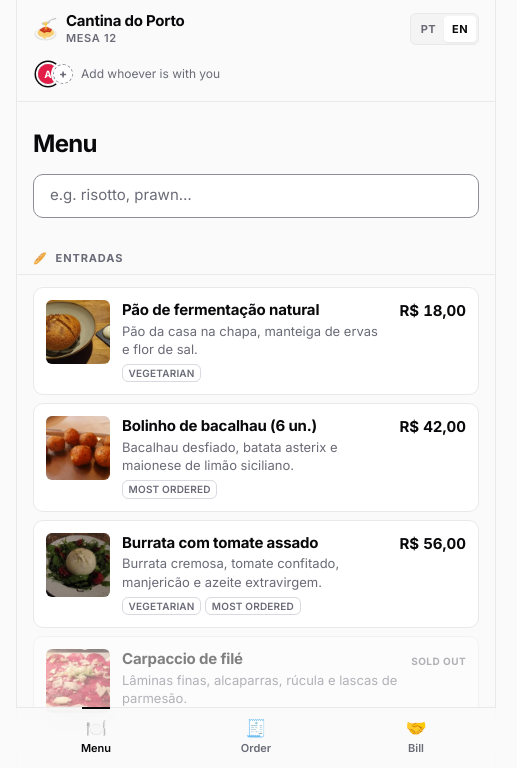
Test case: App routing › walks from the menu to the order and on to the bill
Expected: the heading "Menu" is shown, [33,128,97,158]
Click the link "🧾 Order".
click(256, 736)  # box [241,718,271,755]
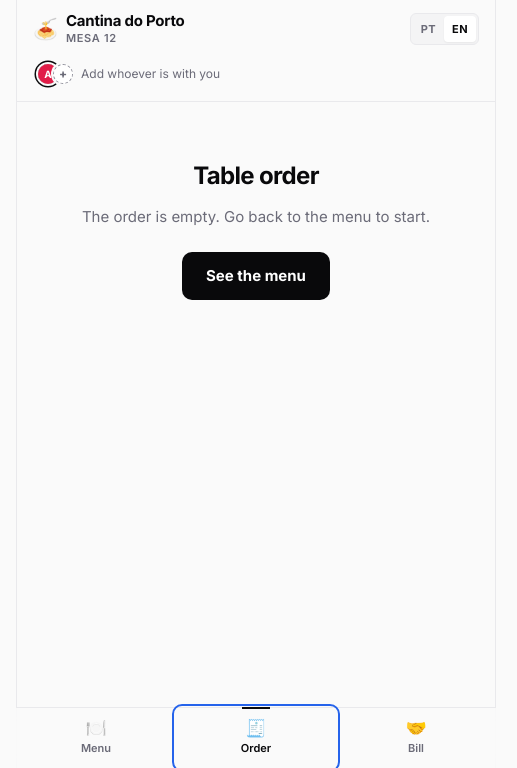
Expected: the heading "Table order" is shown, [193,160,319,190]
Click the link "🤝 Bill".
click(416, 736)  # box [405,718,427,755]
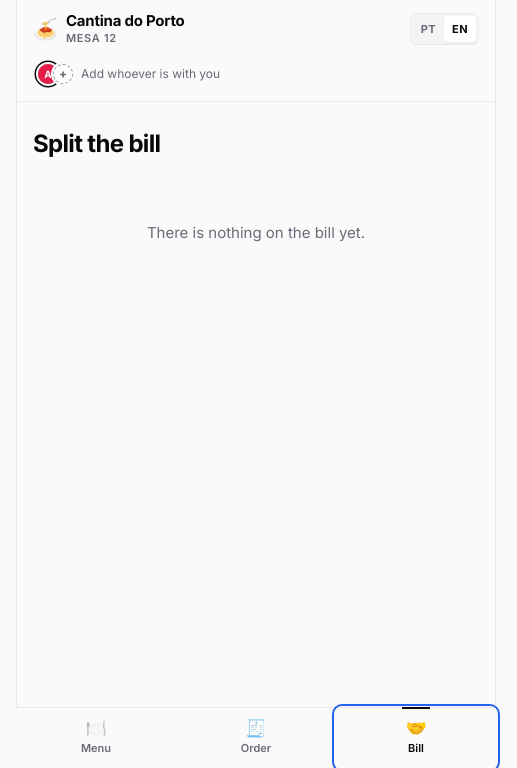
Expected: the heading "Split the bill" is shown, [33,128,160,158]
